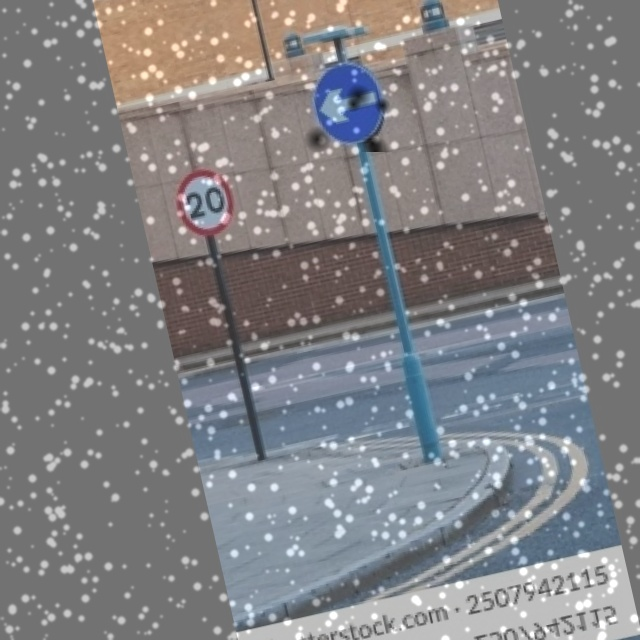Compulsory_Turn_Left: (303, 54, 394, 152)
